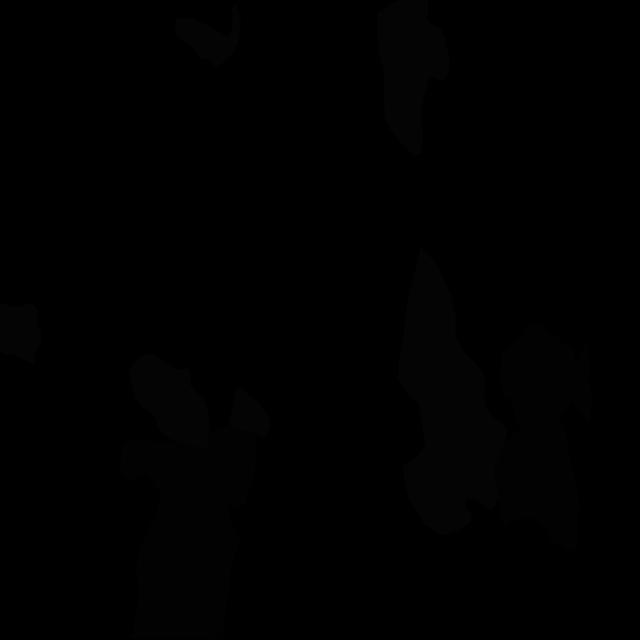cardboard: (120, 426, 256, 639), (493, 323, 592, 552)
soft_plastic: (398, 246, 508, 536), (377, 0, 450, 156), (128, 353, 210, 450), (175, 3, 241, 67), (0, 303, 41, 365), (229, 386, 271, 438)
